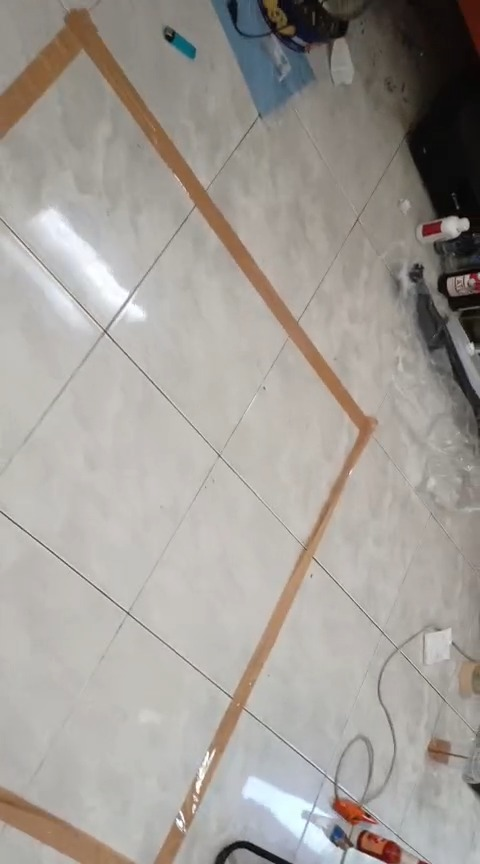floor marking: (0, 9, 375, 863), (0, 792, 128, 863)
